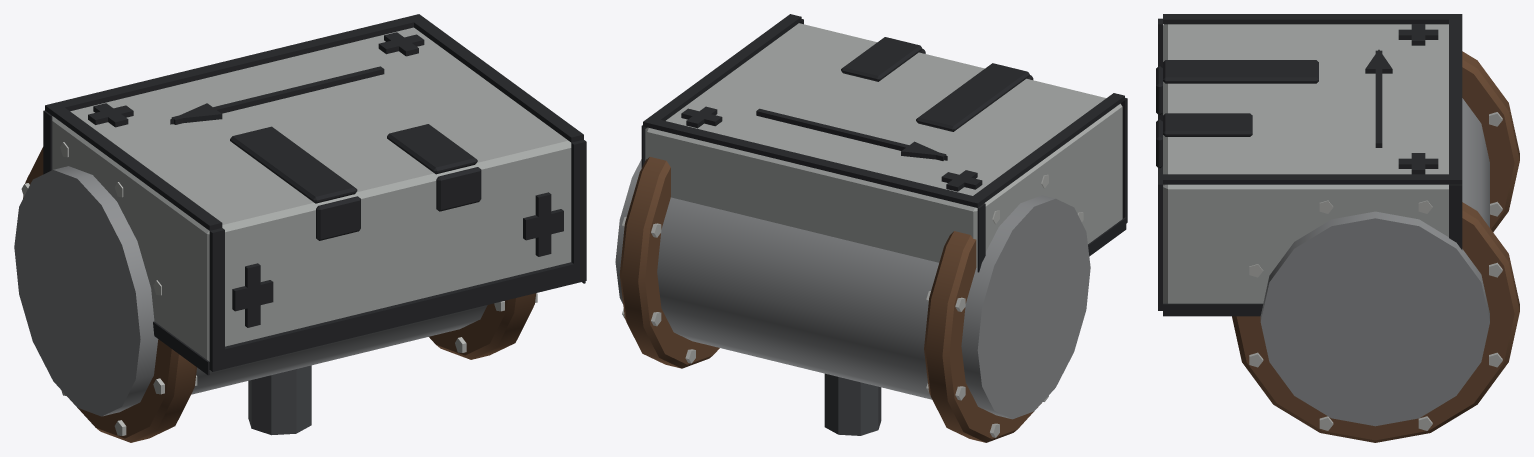
Rendered from top-up-valve-west.glb.
3 views of the same model, side by side, from view 1: azimuth 30°, elevation 25°; view 2: azimuth 150°, elevation 25°; view 3: azimuth 270°, elevation 25° (orthographic). The views are drawn at different scales.
Visible parts, largest first — view 1: body; view 2: body; view 3: body.
Boxes of the visible parts, box(x1,y1,x2,y2) form: body: box(14, 14, 586, 442); body: box(615, 14, 1127, 442); body: box(1156, 14, 1519, 442).
Size of the model in its own units: 1 by 0.776 by 0.856.
